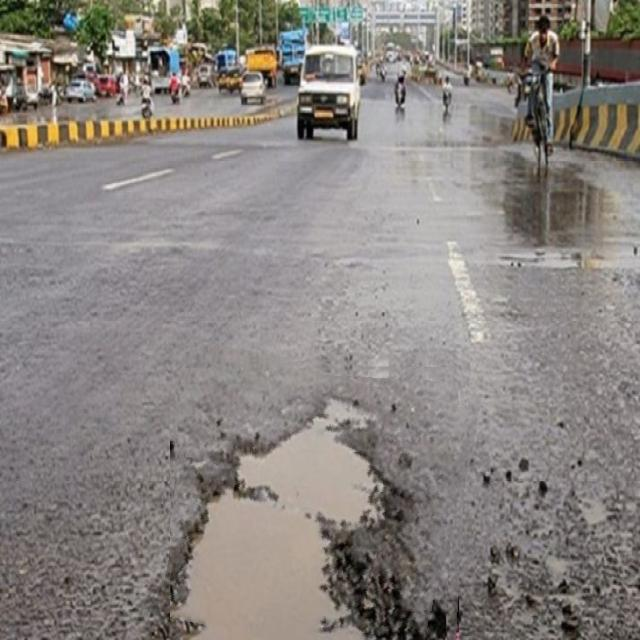Pothole: (170, 355, 470, 640)
